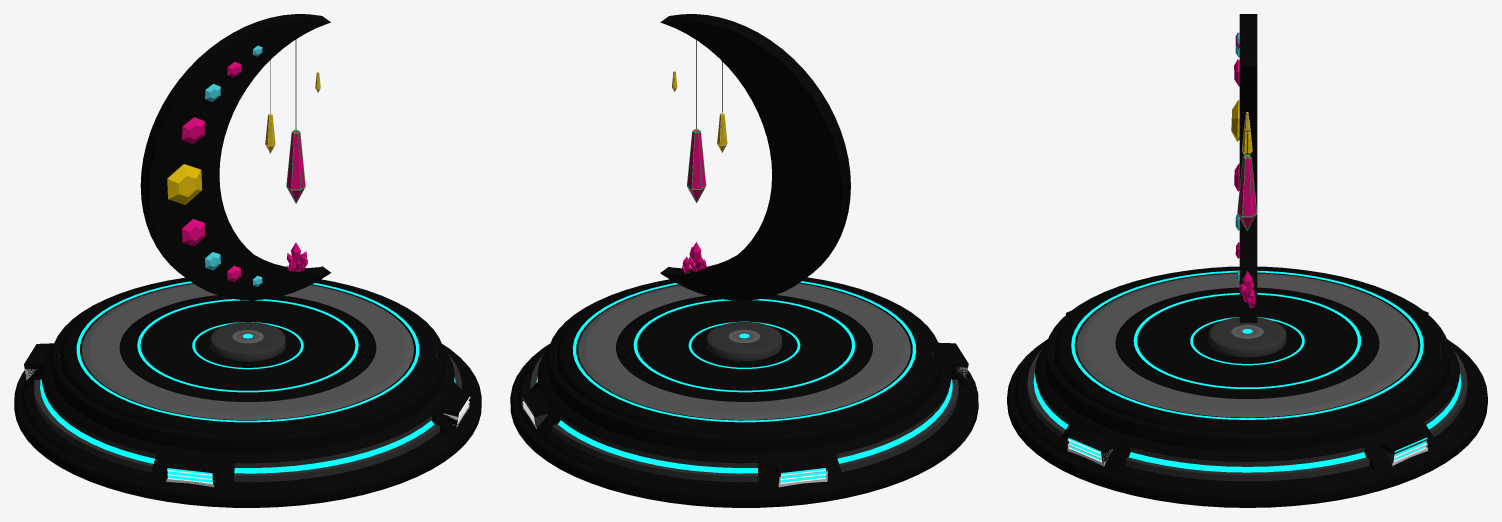
File: asset.glb
3 renders of one model, left to right at view 1: azimuth 30°, elevation 25°; view 2: azimuth 150°, elevation 25°; view 3: azimuth 270°, elevation 25°, orthographic. The views are drawn at different scales.
Parts seen in each view (by area): view 1: Cylinder.004, Cylinder.001, Cylinder.007, Cylinder.002, Cylinder, Cylinder.010, c bot big light, Cylinder.005, c bot top, Cylinder.008, Cylinder.050, Cylinder.049 (+5 smaller); view 2: Cylinder.004, Cylinder.001, Cylinder.007, Cylinder.002, Cylinder, Cylinder.010, c bot big light, Cylinder.005, c bot top, Cylinder.008, Cylinder.018, vent.015 (+3 smaller); view 3: Cylinder.004, Cylinder.007, Cylinder.002, Cylinder.001, Cylinder, Cylinder.005, Cylinder.010, c bot big light, c bot top, Cylinder.008, Cylinder.018, vent.001 (+2 smaller).
Boxes of the visible parts, left/top/right/bottom form: Cylinder.004: left=14, top=277, right=481, bottom=507; Cylinder.001: left=140, top=14, right=330, bottom=300; Cylinder.007: left=119, top=295, right=376, bottom=401; Cylinder.002: left=59, top=283, right=436, bottom=419; Cylinder: left=34, top=354, right=461, bottom=482; Cylinder.010: left=210, top=322, right=285, bottom=361; c bot big light: left=40, top=377, right=455, bottom=473; Cylinder.005: left=76, top=281, right=419, bottom=422; c bot top: left=43, top=389, right=432, bottom=467; Cylinder.008: left=137, top=299, right=358, bottom=392; Cylinder.050: left=167, top=164, right=202, bottom=204; Cylinder.049: left=182, top=117, right=205, bottom=246; Cylinder.004: left=510, top=277, right=978, bottom=507; Cylinder.001: left=660, top=14, right=850, bottom=300; Cylinder.007: left=616, top=295, right=872, bottom=401; Cylinder.002: left=556, top=283, right=932, bottom=419; Cylinder: left=530, top=354, right=958, bottom=482; Cylinder.010: left=707, top=322, right=781, bottom=361; c bot big light: left=536, top=376, right=952, bottom=473; Cylinder.005: left=572, top=281, right=916, bottom=422; c bot top: left=560, top=389, right=948, bottom=467; Cylinder.008: left=633, top=299, right=855, bottom=392; Cylinder.018: left=687, top=130, right=705, bottom=201; vent.015: left=774, top=456, right=827, bottom=483; Cylinder.004: left=1007, top=266, right=1487, bottom=507; Cylinder.007: left=1115, top=287, right=1379, bottom=398; Cylinder.002: left=1054, top=273, right=1440, bottom=417; Cylinder.001: left=1239, top=14, right=1257, bottom=322; Cylinder: left=1027, top=349, right=1467, bottom=481; Cylinder.005: left=1071, top=270, right=1423, bottom=419; Cylinder.010: left=1208, top=317, right=1286, bottom=357; c bot big light: left=1033, top=373, right=1461, bottom=472; c bot top: left=1037, top=385, right=1457, bottom=466; Cylinder.008: left=1133, top=293, right=1361, bottom=388; Cylinder.018: left=1237, top=156, right=1256, bottom=229; vent.001: left=1065, top=426, right=1116, bottom=465.
Bounding box in the file's own units: 0.5283 × 0.4775 × 0.5283.
